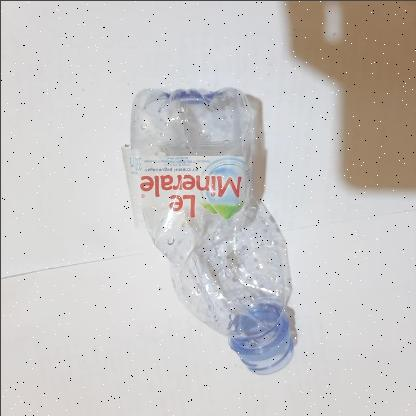Plastic Bottle: (120, 88, 294, 374)
